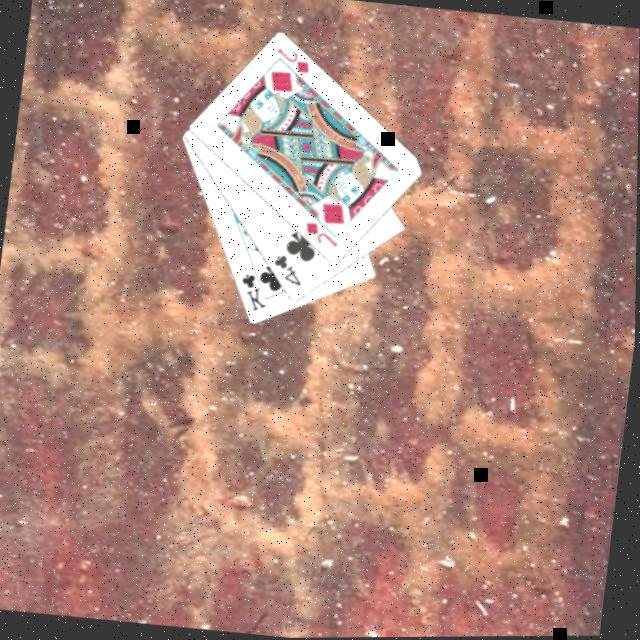4C: (270, 251, 310, 291)
JD: (302, 219, 345, 252), (273, 46, 316, 79)
KC: (236, 263, 276, 316)
